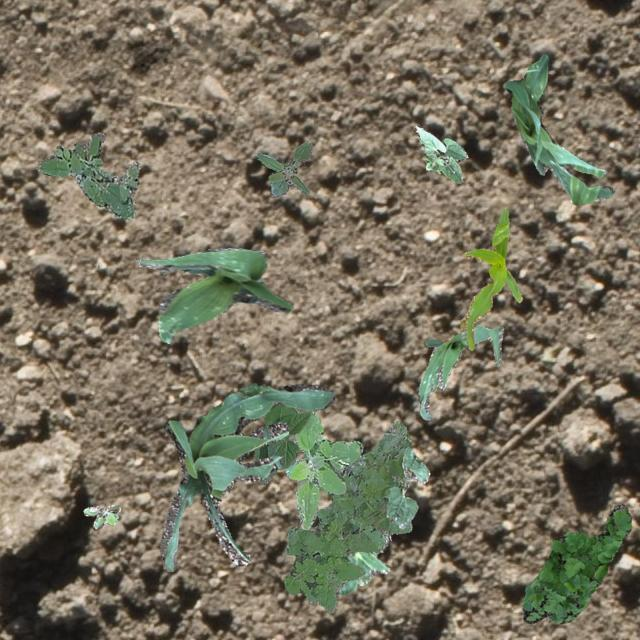crop: (158, 382, 334, 570), (504, 54, 614, 204), (134, 246, 292, 342), (459, 208, 522, 348), (418, 324, 502, 419), (252, 404, 310, 484), (384, 446, 428, 528), (336, 532, 390, 594), (414, 125, 466, 182)
weed: (283, 420, 412, 612), (522, 502, 630, 622), (284, 410, 362, 530), (36, 132, 140, 218), (254, 140, 310, 196), (83, 503, 119, 528)
